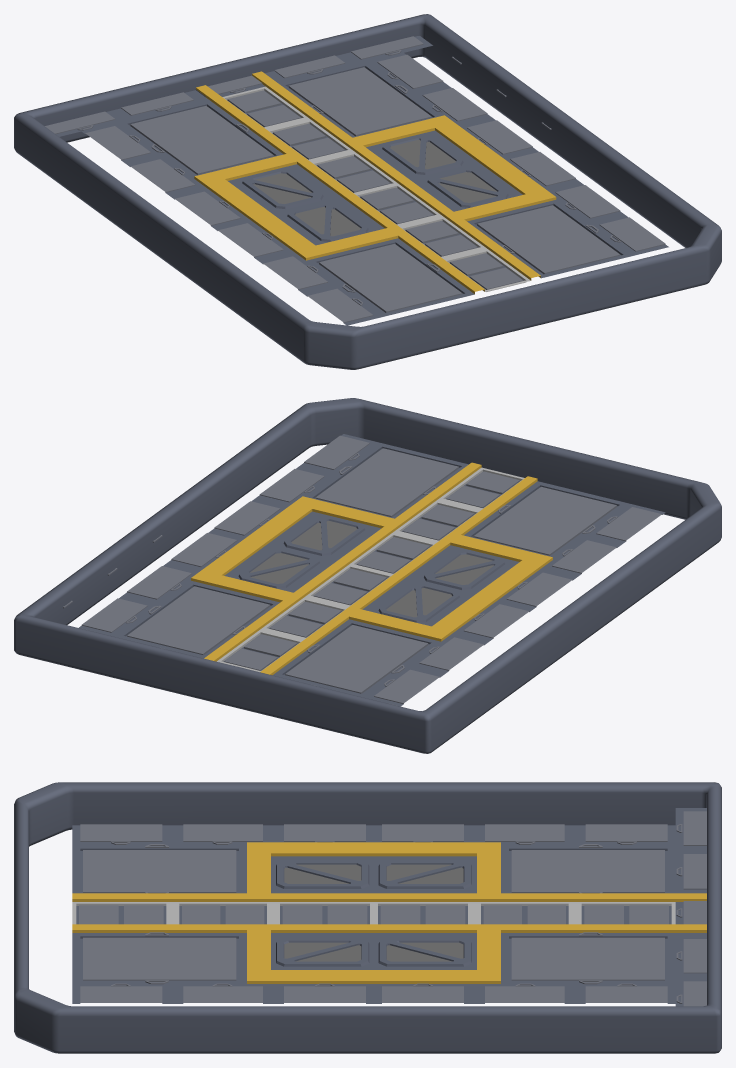
File: Ground.fbx
3 views of the same model, one above another, from view 1: azimuth 30°, elevation 25°; view 2: azimuth 150°, elevation 25°; view 3: azimuth 270°, elevation 25° (orthographic). The views are drawn at different scales.
Visible parts, largest first — view 1: Ground; view 2: Ground; view 3: Ground.
Boxes of the visible parts, <box> form: Ground: <box>14,14,721,369</box>; Ground: <box>14,398,721,753</box>; Ground: <box>14,782,721,1053</box>.
Bounding box in the file's own units: 4095 × 366 × 5296.
